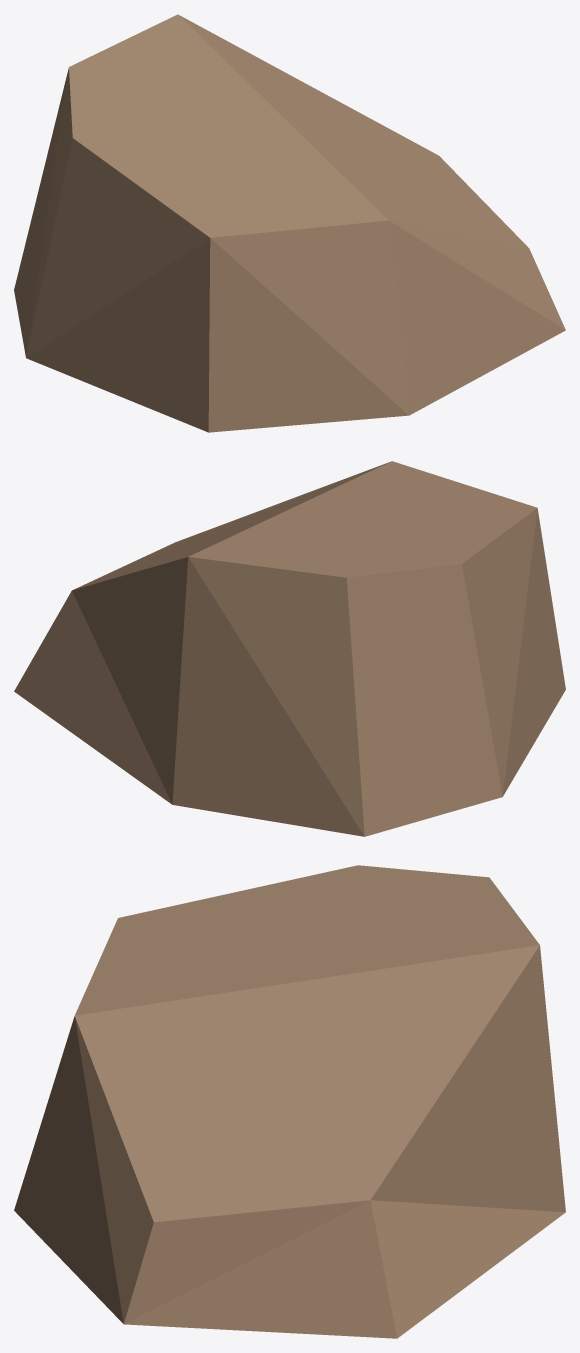
File: TB_Env_Rock5_E.FBX
The picture shows the model from 3 angles, top to bottom: view 1: azimuth 30°, elevation 25°; view 2: azimuth 150°, elevation 25°; view 3: azimuth 270°, elevation 25°; orthographic projection. The views are drawn at different scales.
Parts seen in each view (by area): view 1: TB_Env_Rock5_E; view 2: TB_Env_Rock5_E; view 3: TB_Env_Rock5_E.
Part boxes in pixels (x1,y1,x2,y2): TB_Env_Rock5_E: (14, 14, 565, 432); TB_Env_Rock5_E: (14, 461, 565, 836); TB_Env_Rock5_E: (14, 865, 565, 1338).
Bounding box in the file's own units: 1.49 × 0.7212 × 1.36.
